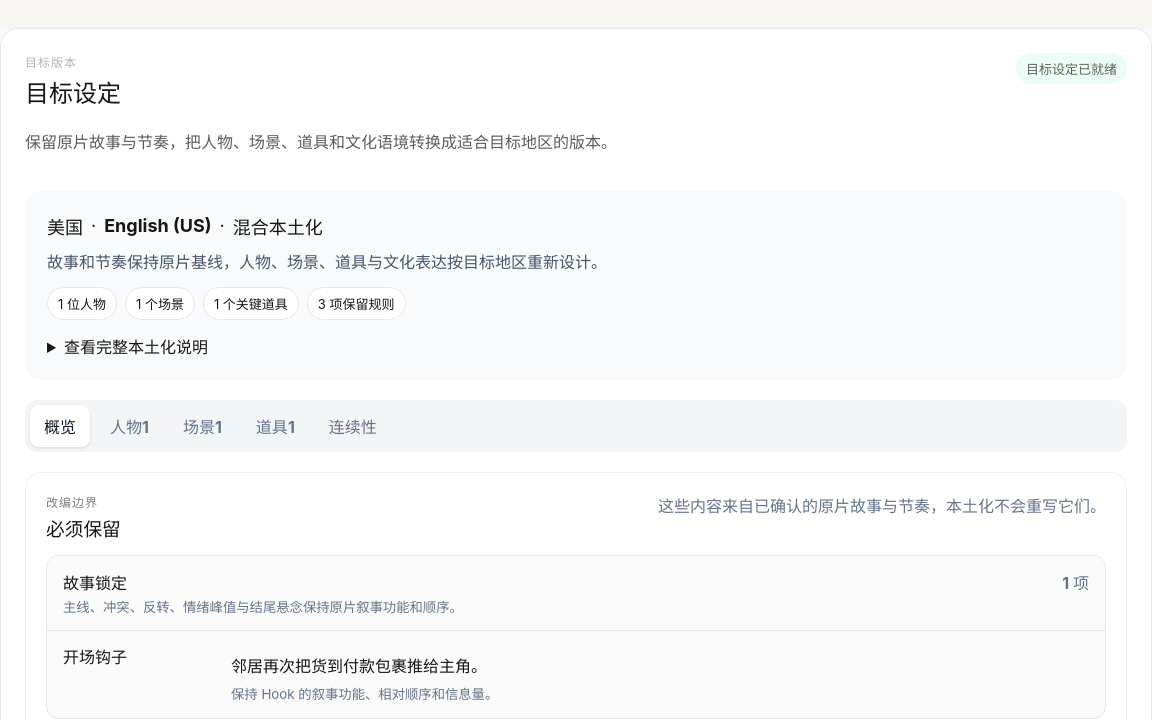
Test: TargetBibleWorkspace › separates people, scenes, props and continuity into product tabs
Expected: the text "Ryan" is not shown
Click the button "人物1" at (129, 426), box [96,405,163,447]
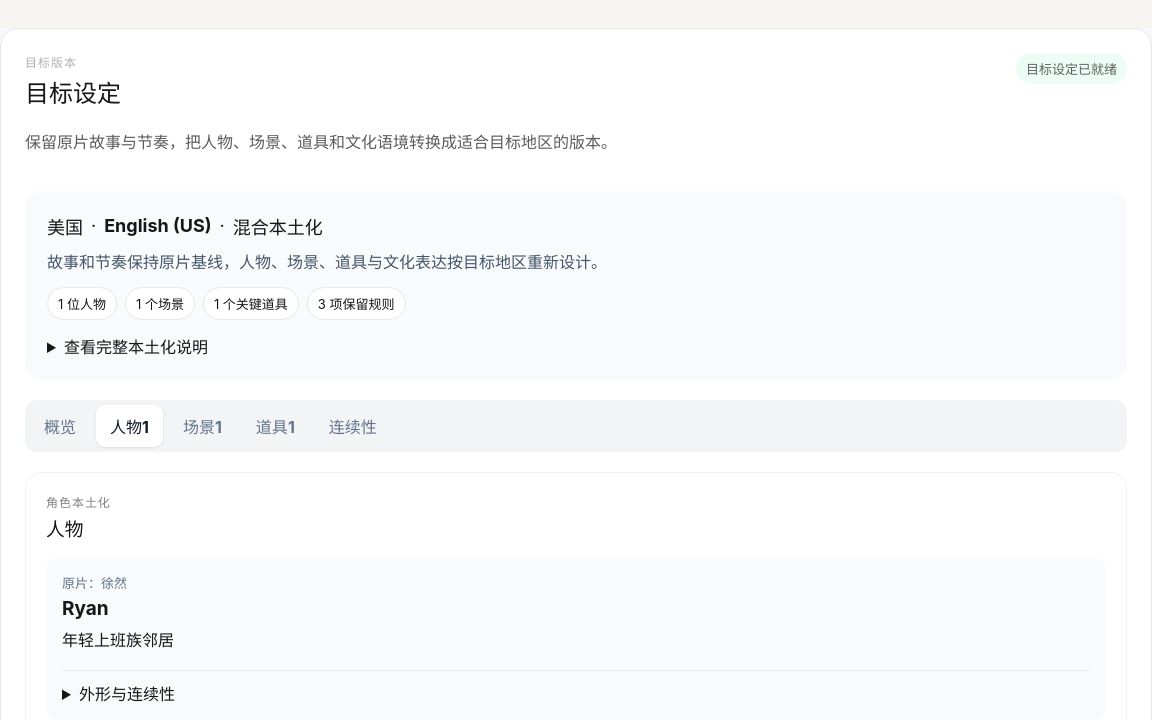
Expected: the text "Ryan's Living Room" is not shown
Expected: the element with test id "target-characters" shows "Ryan", [62,597,109,620]
Click the button "场景1" at (202, 426), box [169,405,236,447]
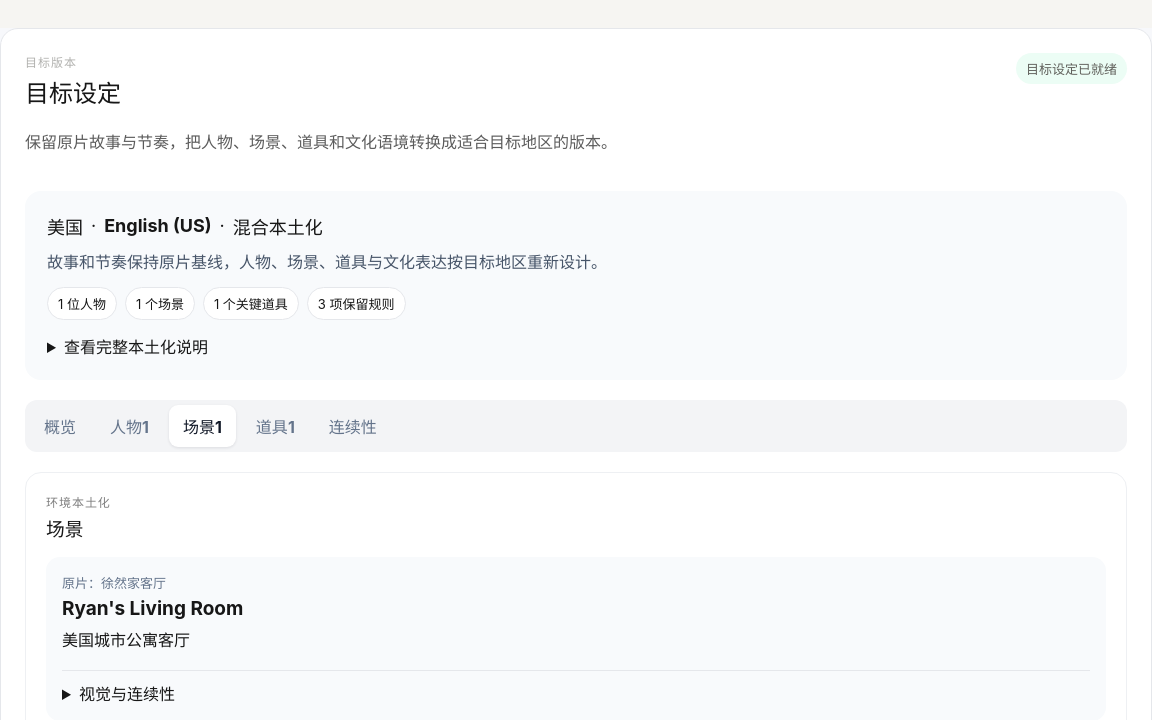
Expected: the element with test id "target-scenes" shows "Ryan's Living Room", [62,597,243,620]
Click the button "道具1" at (275, 426), box [242,405,309,447]
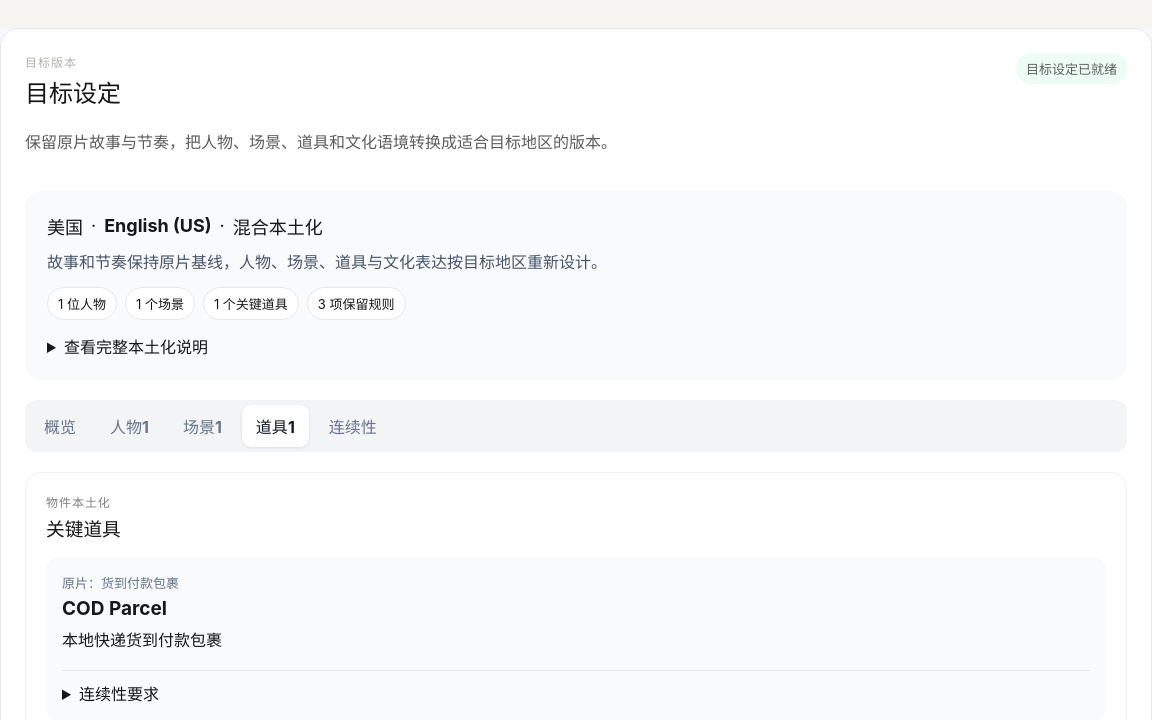
Expected: the element with test id "target-props" shows "COD Parcel", [62,597,167,620]
Click the button "连续性" at (353, 426), box [315,405,391,447]
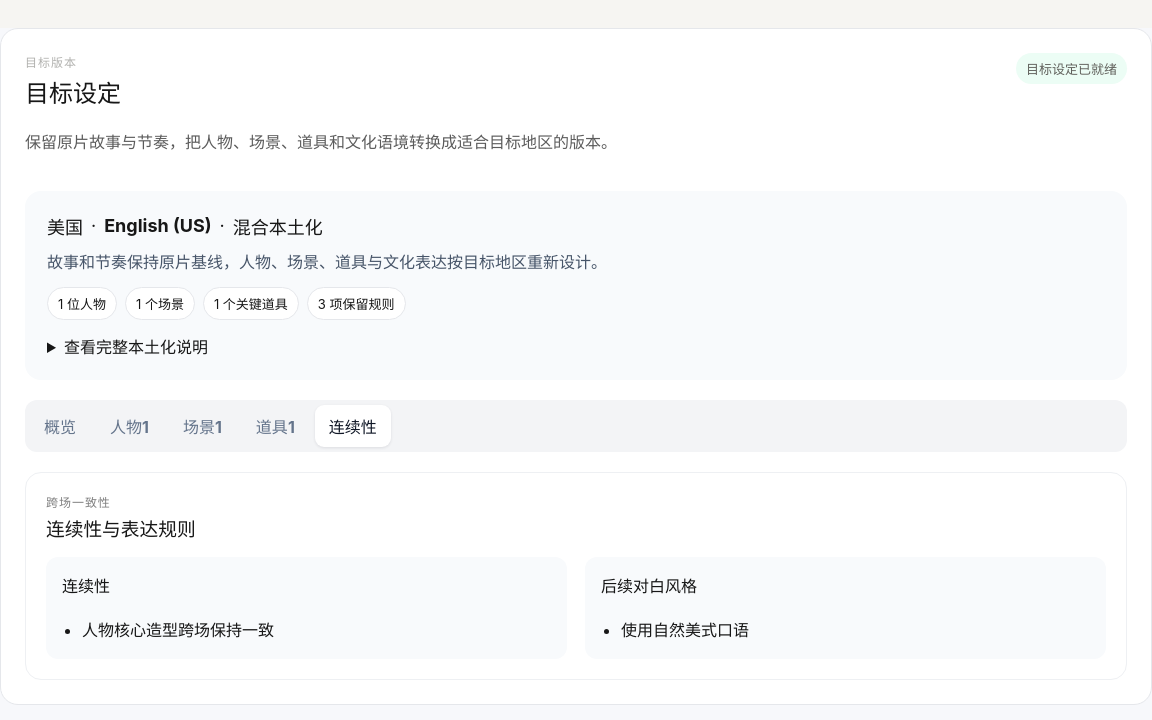
Expected: the element with test id "target-rules" shows "人物核心造型跨场保持一致", [82,620,274,640]
Expected: the element with test id "target-rules" shows "使用自然美式口语", [621,620,749,640]
